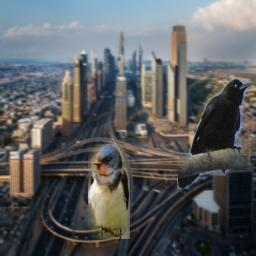Crow: (177, 79, 251, 189)
Swallow: (88, 144, 130, 239)
